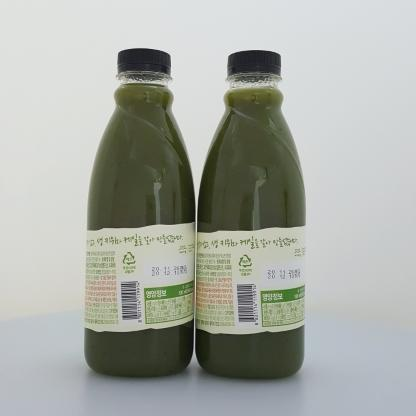-----------700ML: (195, 50, 306, 380), (84, 48, 195, 378)
